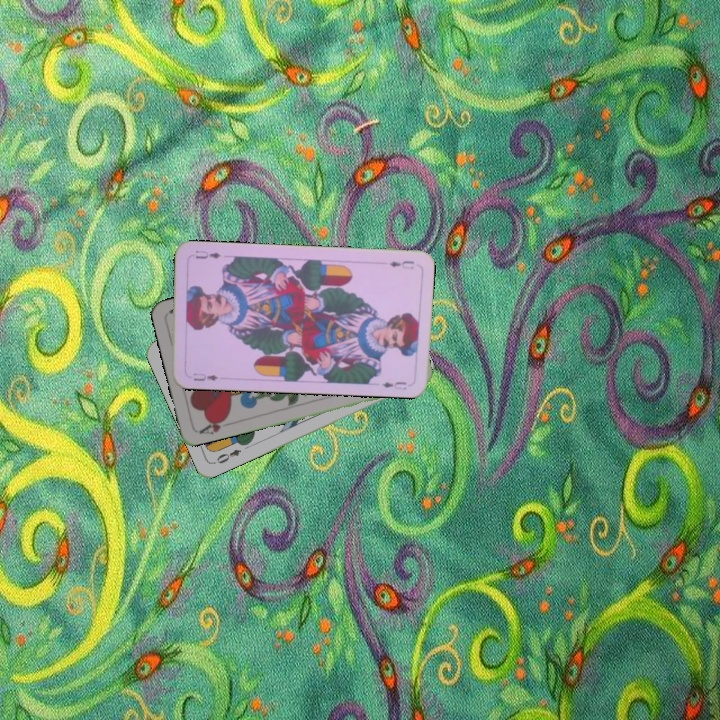EO: (210, 445, 244, 467)
EU: (385, 257, 416, 272), (190, 369, 220, 384)
HA: (195, 412, 235, 437)
